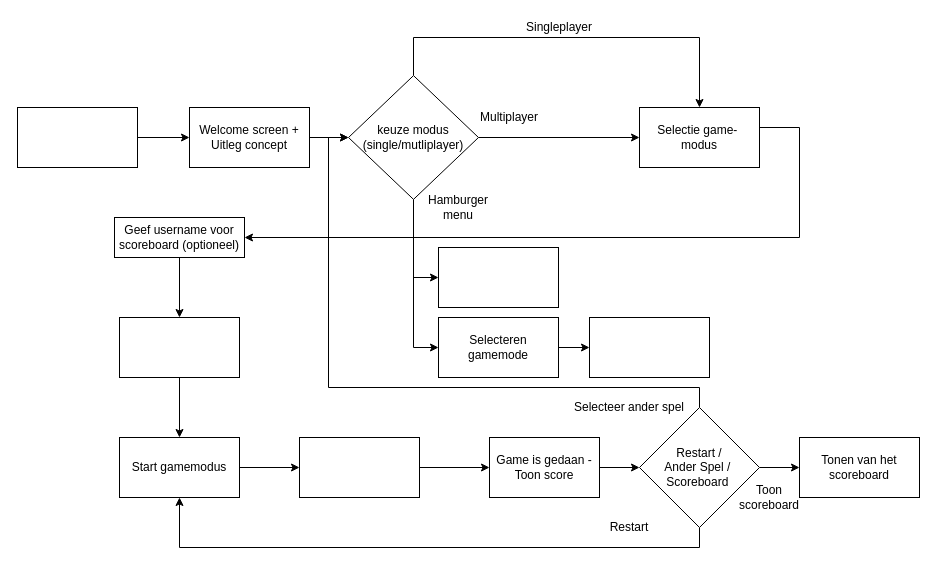
This 937x573 diagram has some shape labels left out. Each missing label, with the centre of its shape:
bekijken scoreboard van geselecteerde gamemode: the point at 649,347
Game live info: the point at 359,467
Uitleg over gamemodus + top scoreboard: the point at 179,347
User scanned QR-code / Geeft IP in: the point at 77,137
Visualisatie batterijen: the point at 498,277
